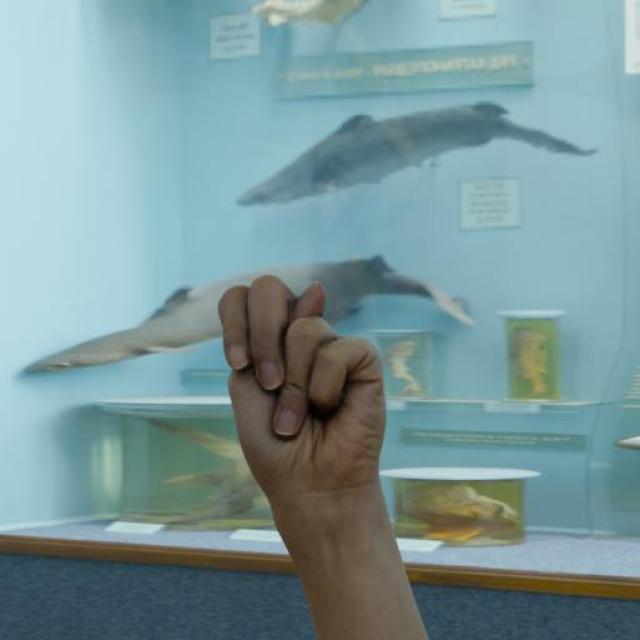N: (213, 268, 392, 502)
